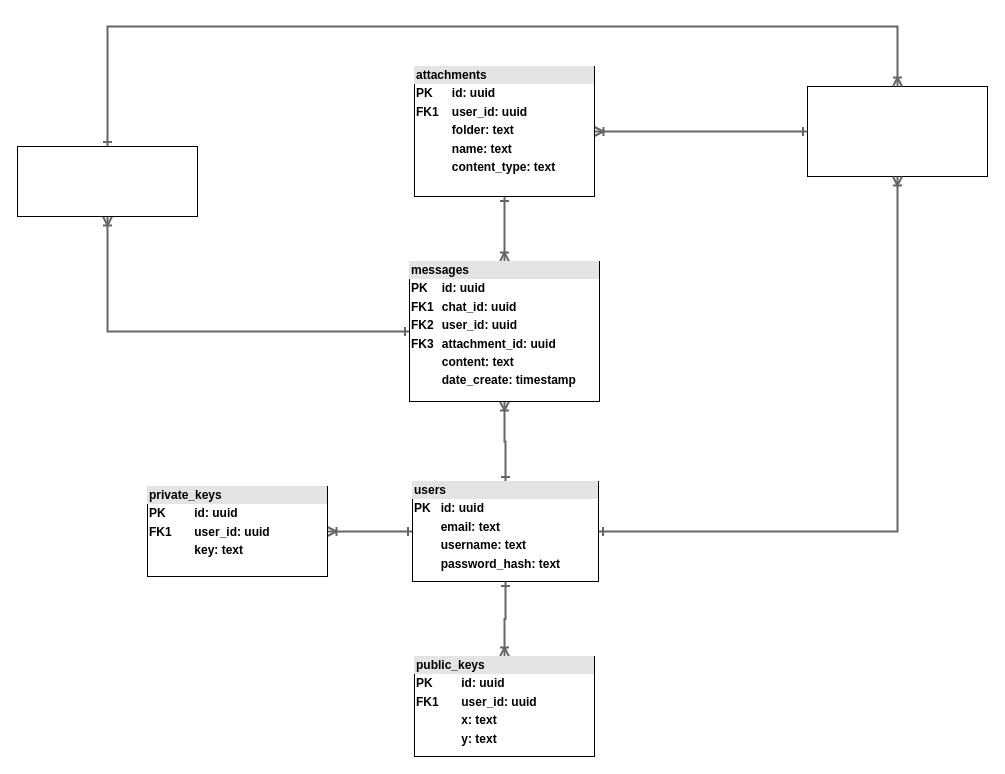
This 1005x774 diagram has some shape labels left out. Each missing label, with the box of its shape:
chat_users PK id: uuid FK1 user_id: uuid FK2 chat_id: uuid: (806, 86, 988, 176)
chats PK id: uuid FK1 name: uuid: (16, 146, 198, 216)
